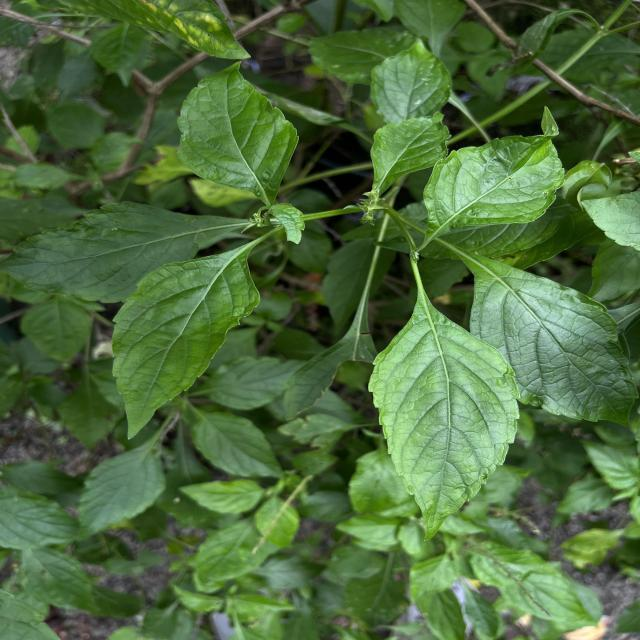Ocimum gratissimum: (364, 272, 524, 546), (454, 246, 640, 429), (109, 236, 265, 443), (0, 198, 252, 307), (420, 102, 568, 251), (173, 58, 302, 208), (368, 110, 454, 198)
